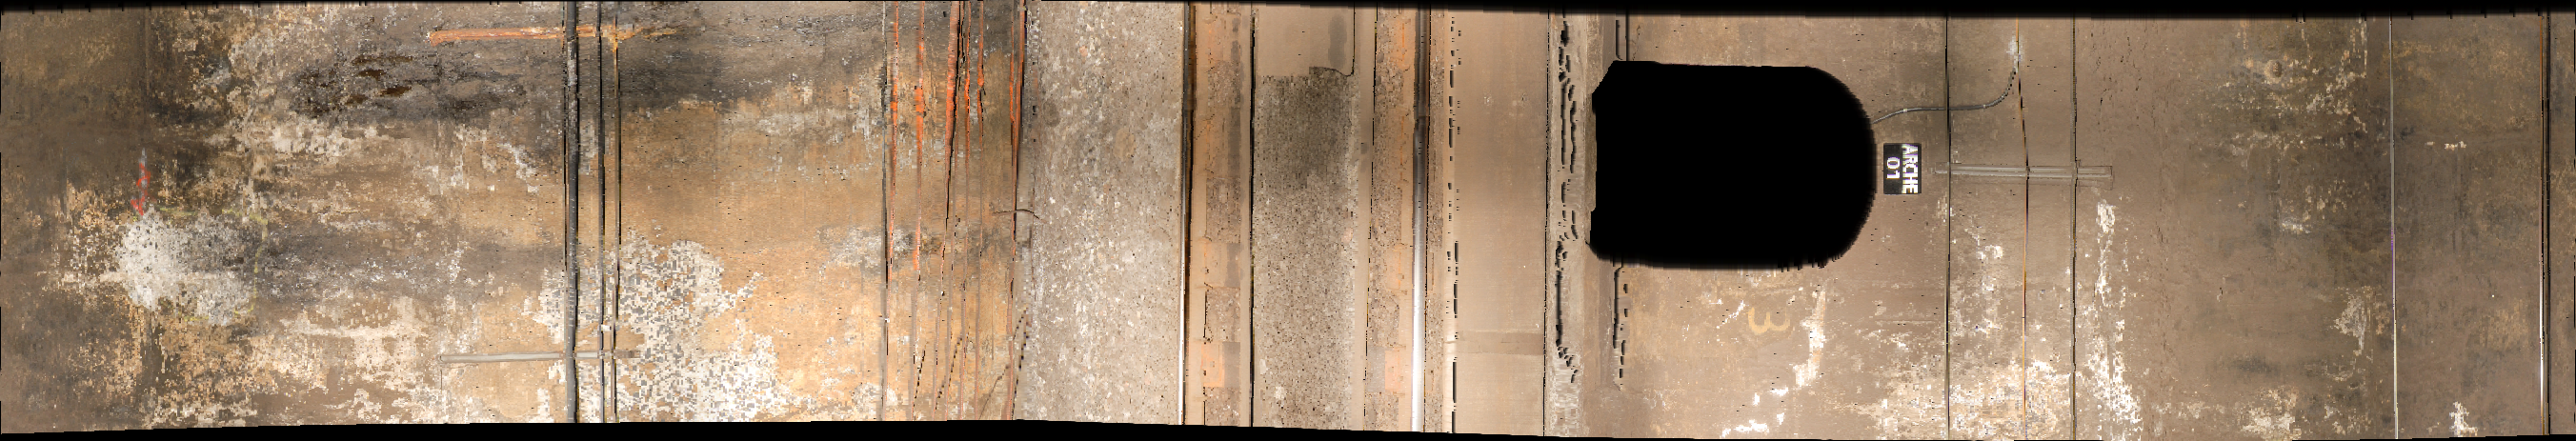pipes: (562, 8, 631, 421), (2537, 3, 2568, 441), (2380, 3, 2408, 441), (1939, 18, 1965, 441), (2067, 5, 2091, 441)
sign: (1881, 137, 1920, 204)
tracks: (1020, 2, 1597, 441)
